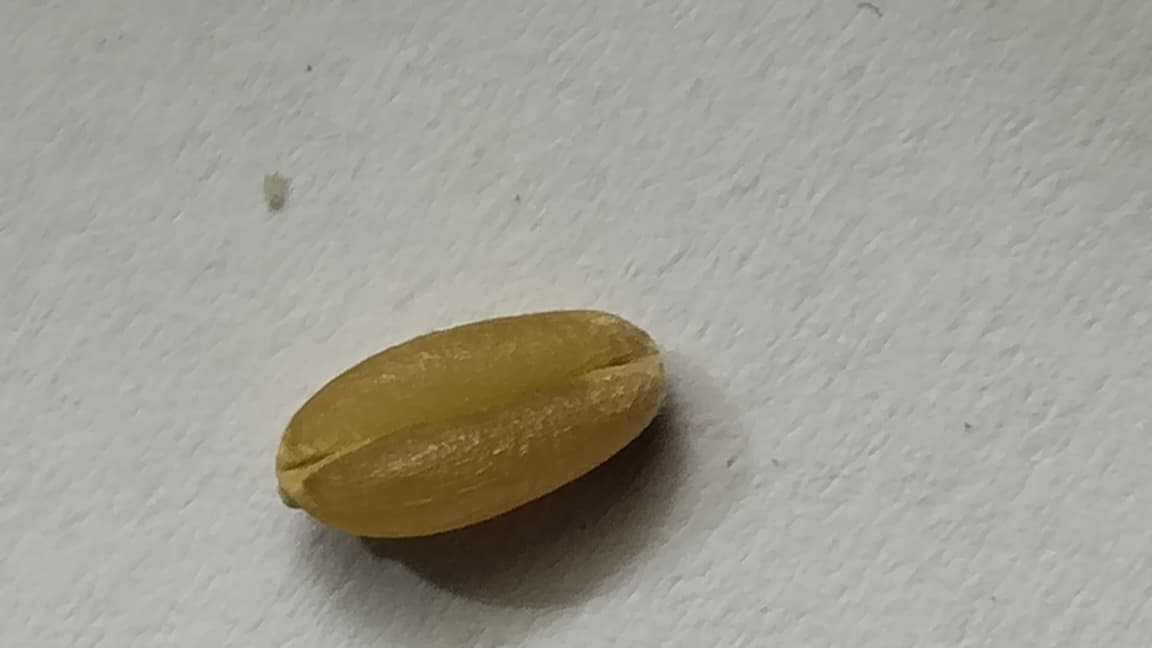healthy: (275, 308, 664, 537)
